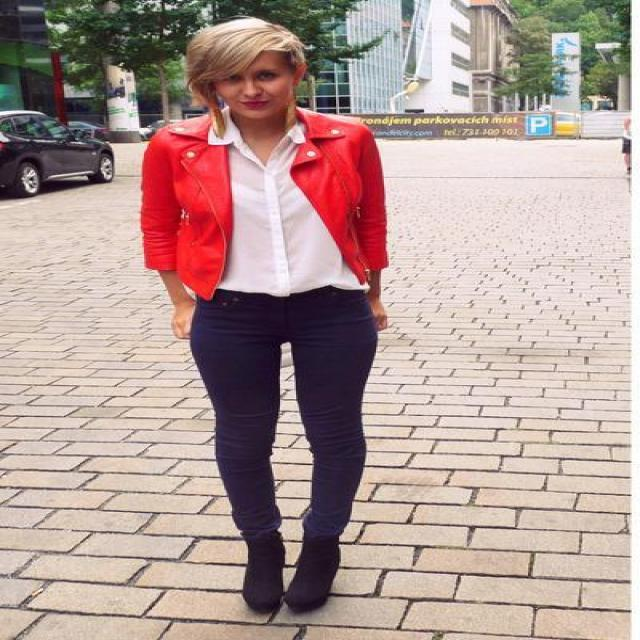jacket: (141, 96, 422, 299)
pants: (182, 285, 390, 541)
shirt: (208, 122, 368, 296)
shoe: (211, 530, 354, 624)
